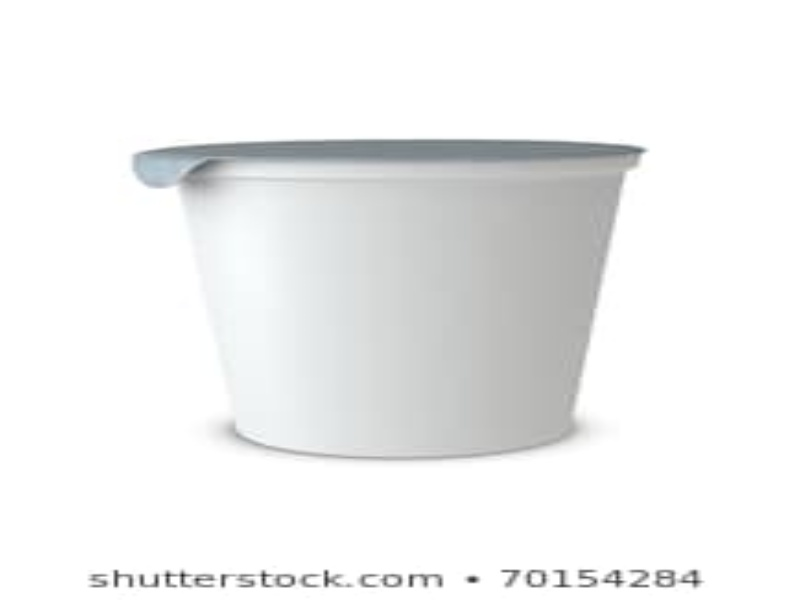yogurt-cup: (126, 134, 660, 459)
